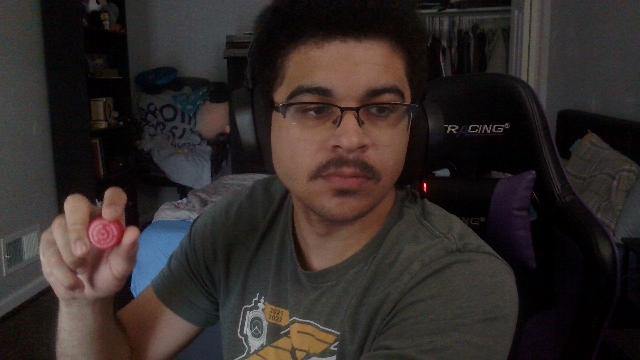cap: (88, 217, 124, 249)
